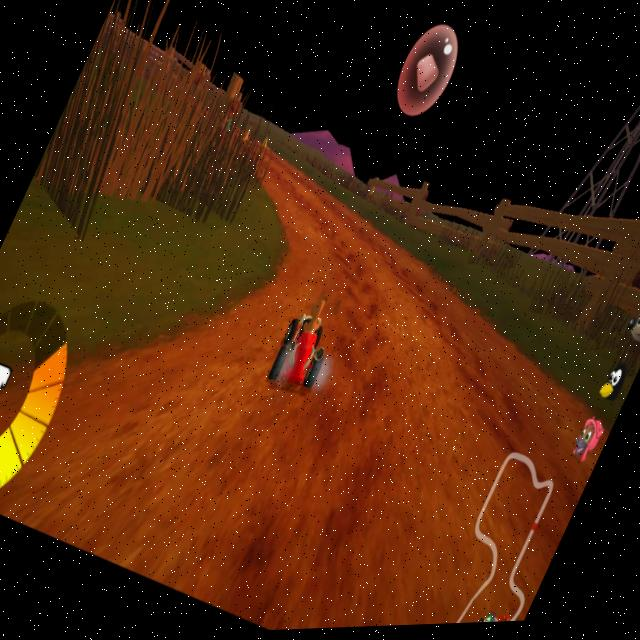off_track: (0, 70, 257, 342), (368, 145, 600, 320)
player_kart: (263, 300, 341, 402)
track: (254, 306, 552, 619), (255, 160, 377, 245)
